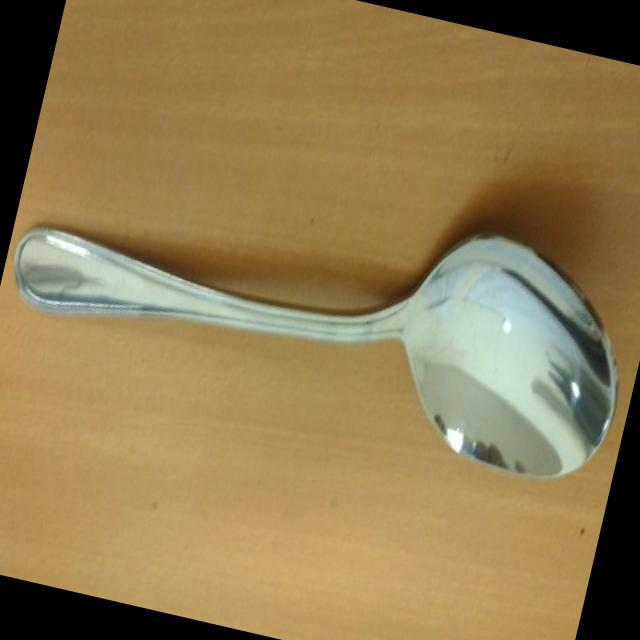spoon: (0, 106, 640, 527)
